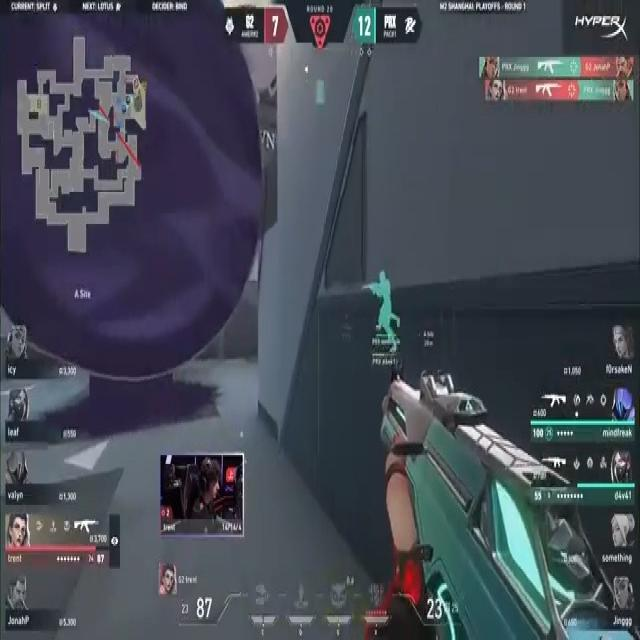ally behind wall: (365, 258, 404, 374)
smoke: (3, 1, 261, 377)
